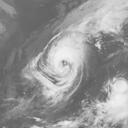cyclone: (36, 40, 85, 94), (108, 76, 127, 100)
